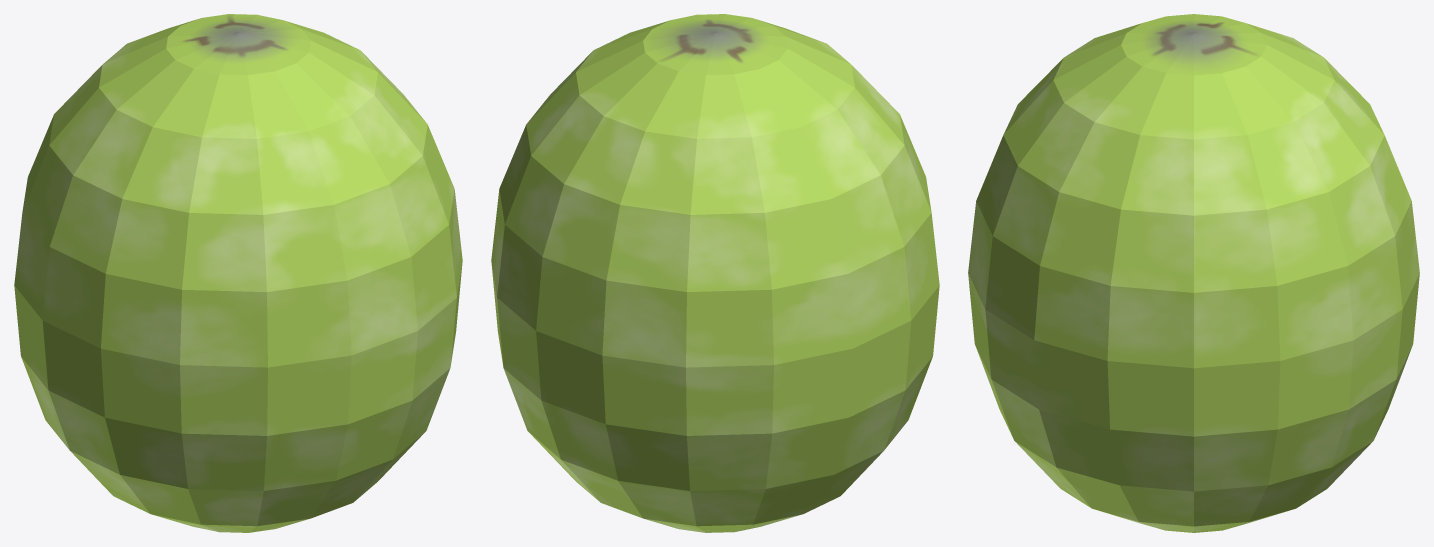
Rendered from grape.fbx.
3 views of the same model, side by side, from view 1: azimuth 30°, elevation 25°; view 2: azimuth 150°, elevation 25°; view 3: azimuth 270°, elevation 25° (orthographic).
Parts seen in each view (by area): view 1: Sphere; view 2: Sphere; view 3: Sphere.
Part boxes in pixels (left/top/right/bottom): Sphere: left=14, top=14, right=462, bottom=532; Sphere: left=491, top=14, right=939, bottom=532; Sphere: left=968, top=14, right=1419, bottom=532.
Size of the model in its own units: 182 by 213 by 182.
1 material, 1 textured.
